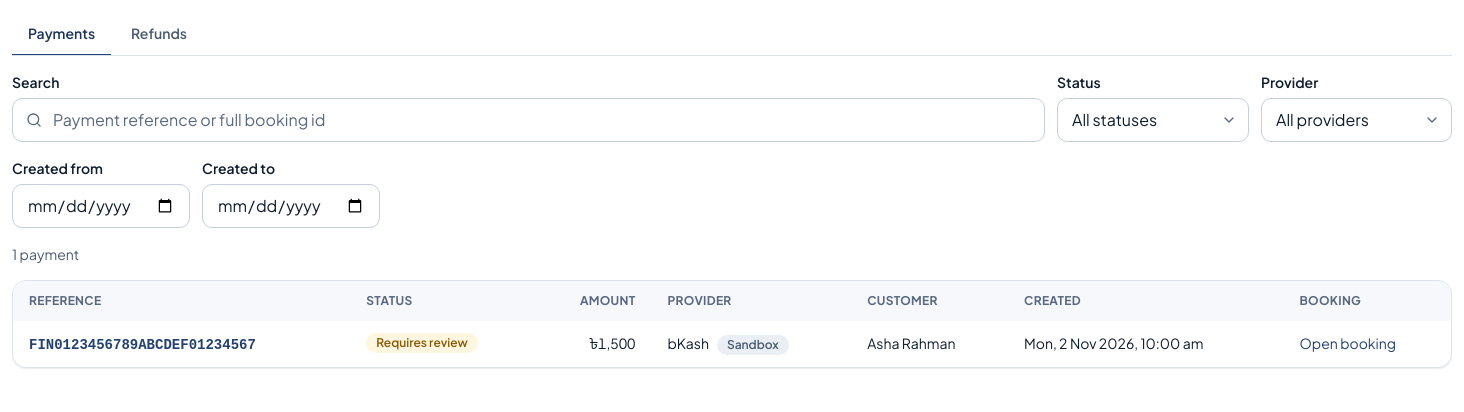
Test case: admin payments › lists payments with formatBdt amounts, filters and validates the search length
Check: the text "৳1,500" is shown, box [537,321,652,367]
Select "Needs attention" in the dropdown labelled "Status" at [1153, 120], box [1057,98,1249,142]
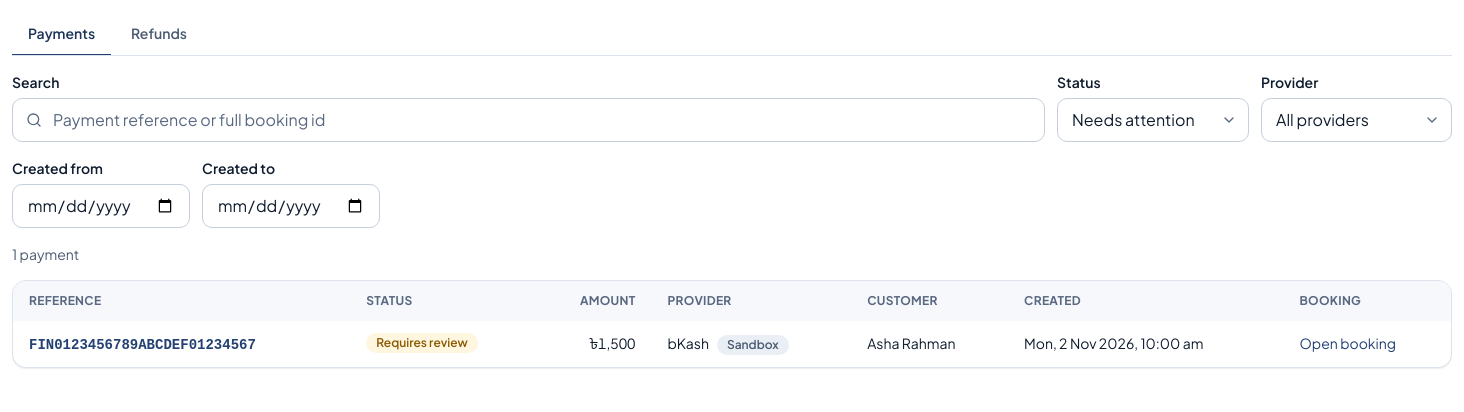
Select "bKash" in the dropdown labelled "Provider" at [1356, 120], box [1261,98,1452,142]
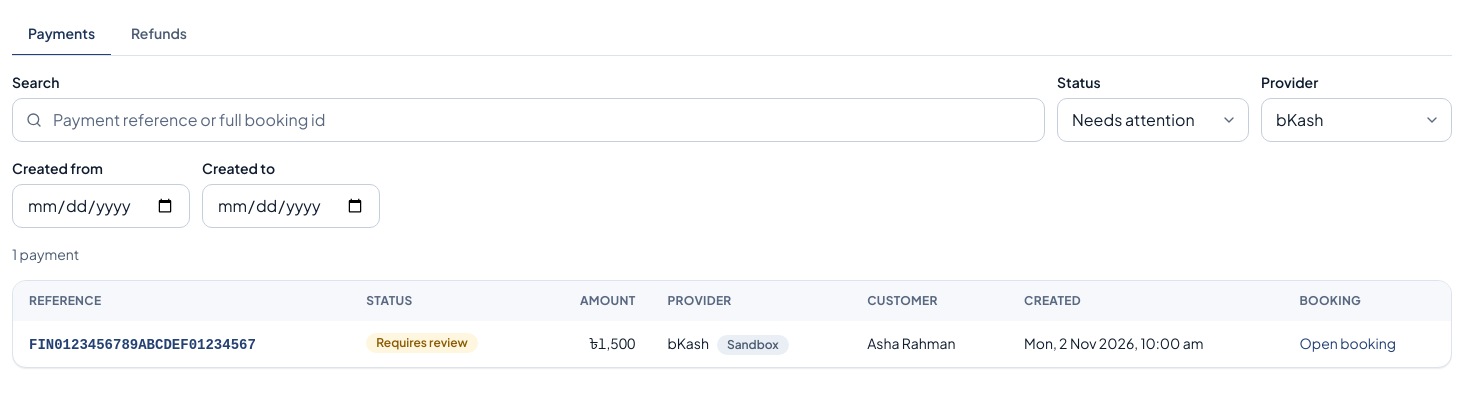
Type "FI" into the search field labelled "Search".
click(528, 120); type("FI")  # box [12,98,1045,142]
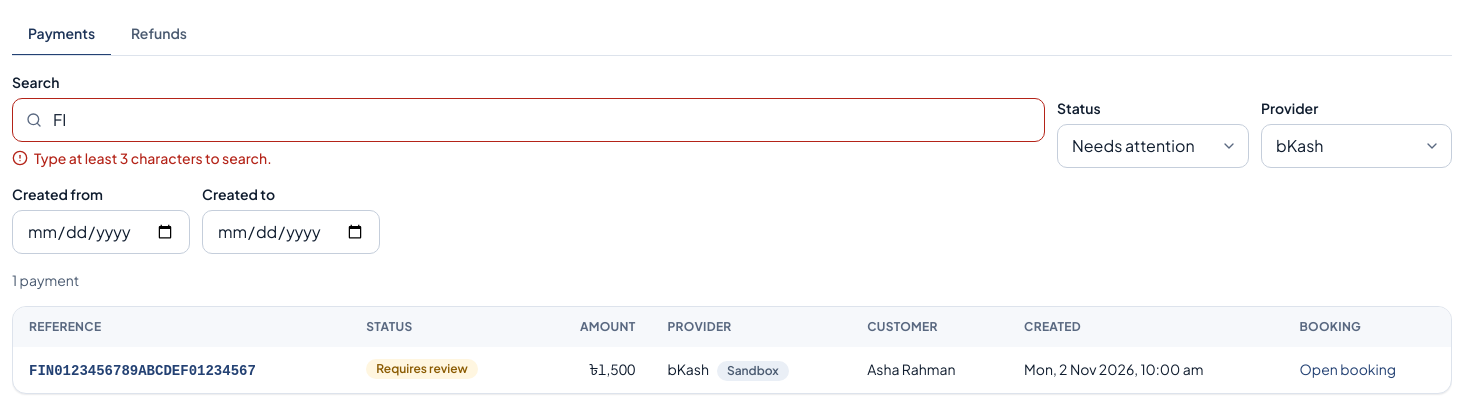
Check: the text "Type at least 3 characters to search." is shown, box [34,148,272,168]
